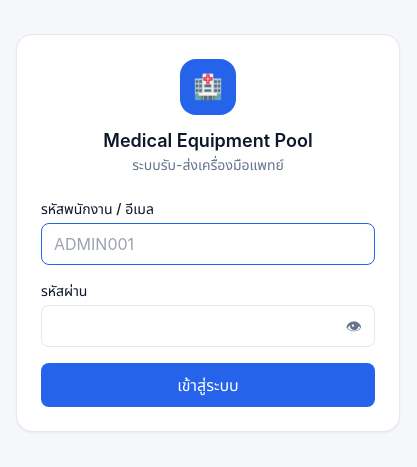
Test: LoginPage lockout message › still shows the backend message for an ordinary wrong password
The width and height of the screenshot is (417, 467).
Step 1. Type "ADMINISTRATOR001" into the field labelled "รหัสพนักงาน / อีเมล" → x=208, y=244, box [41,223,375,265]
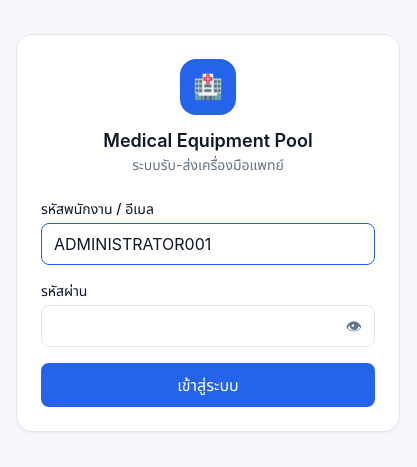
Step 2. Type "Password@123" into the password field labelled "รหัสผ่าน" → x=188, y=326, box [42,306,334,346]
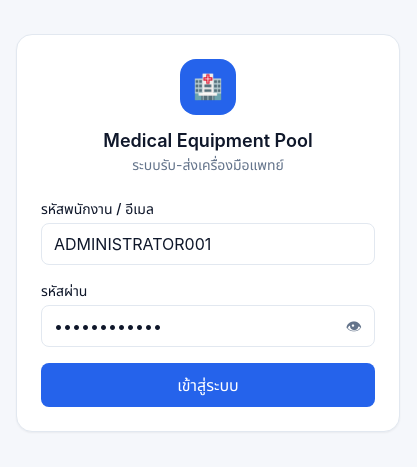
Step 3. Click the button "เข้าสู่ระบบ" → x=208, y=385, box [41,363,375,407]
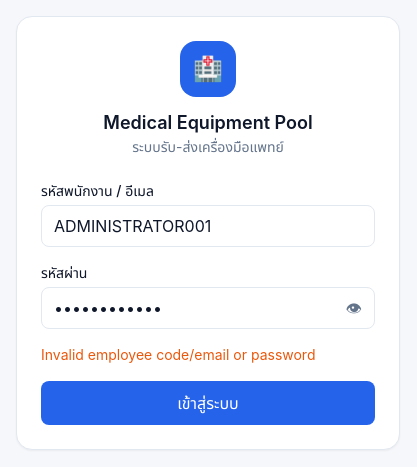
Expected: the text "Invalid employee code/email or password" is shown, [41,346,316,363]
